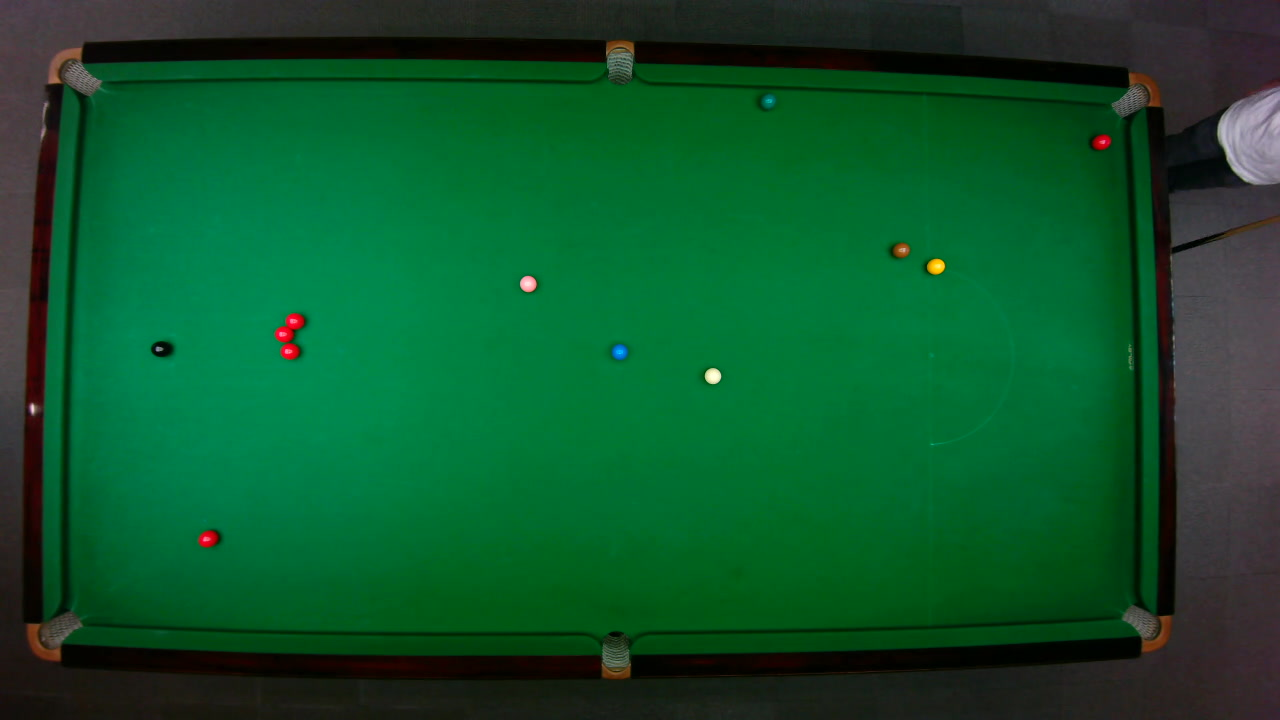bag: (24, 609, 83, 662), (45, 46, 101, 96), (1119, 603, 1172, 652), (1108, 71, 1162, 117), (600, 629, 629, 680), (605, 38, 633, 85)
black: (149, 339, 171, 357)
blue: (609, 343, 628, 360)
brown: (890, 241, 910, 258)
green: (759, 93, 776, 110)
pink: (517, 273, 537, 293)
red: (196, 528, 219, 547), (1089, 132, 1112, 150), (284, 311, 305, 330), (278, 342, 300, 360), (272, 324, 293, 342)
white: (702, 366, 722, 384)
yellow: (924, 256, 946, 275)
zone: (927, 265, 1014, 445)
